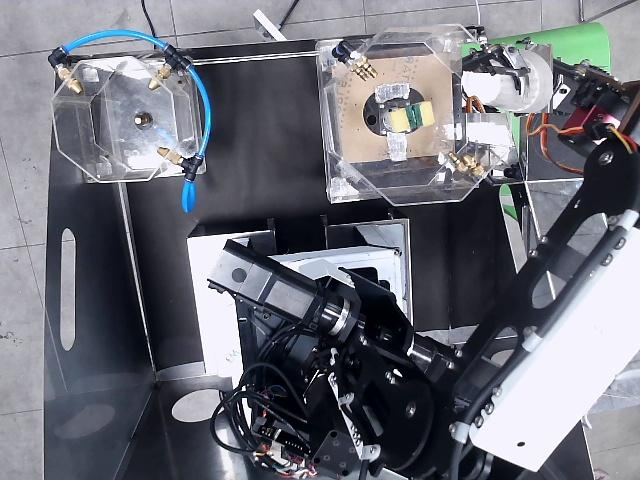cup: (462, 44, 553, 113)
